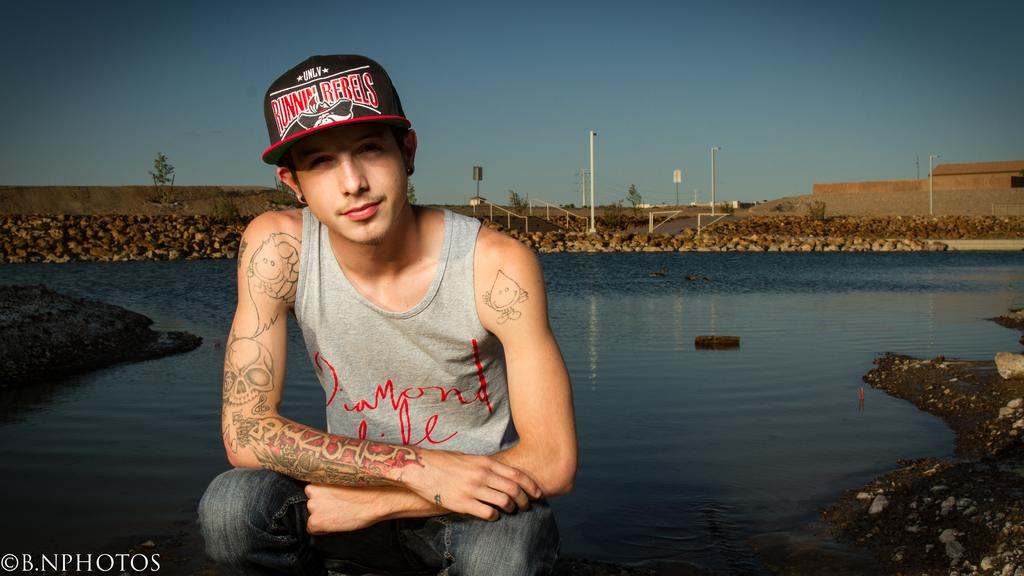Hat: (260, 56, 414, 162)
